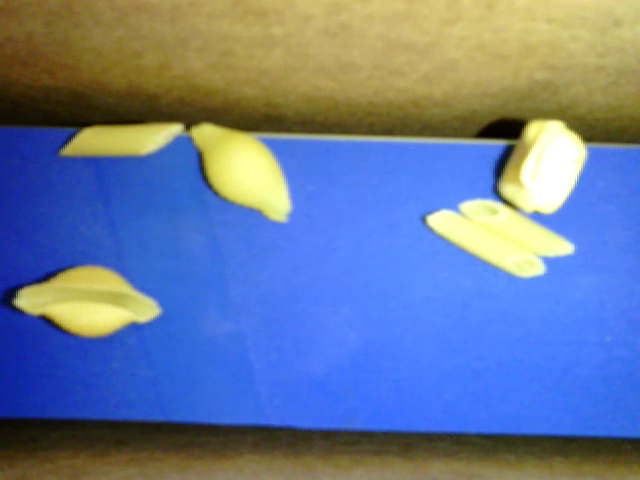penne: (425, 208, 546, 279), (458, 197, 575, 260), (58, 122, 183, 155)
shell: (12, 265, 161, 337), (190, 123, 292, 223)
